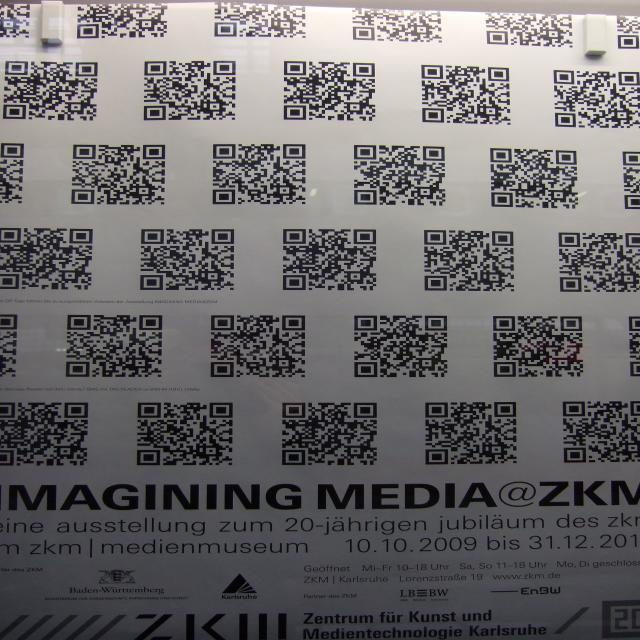qr_code: (136, 402, 232, 465), (66, 314, 162, 376), (282, 402, 377, 464), (210, 315, 305, 377), (354, 315, 447, 377), (140, 229, 234, 290), (0, 402, 89, 466), (283, 229, 376, 290), (0, 228, 93, 289), (2, 61, 98, 120), (425, 402, 516, 464), (212, 144, 306, 204), (71, 144, 165, 204), (492, 316, 584, 377), (354, 145, 446, 206), (424, 230, 514, 292), (284, 61, 376, 121), (489, 148, 578, 209), (144, 61, 235, 120), (421, 64, 510, 124), (553, 70, 640, 128), (558, 232, 640, 292), (562, 400, 640, 462), (76, 3, 168, 39), (214, 2, 306, 38), (485, 12, 573, 48), (352, 8, 442, 42), (0, 143, 24, 203), (0, 314, 17, 376), (0, 3, 30, 38), (622, 151, 640, 209), (616, 16, 640, 48), (628, 316, 640, 376)
